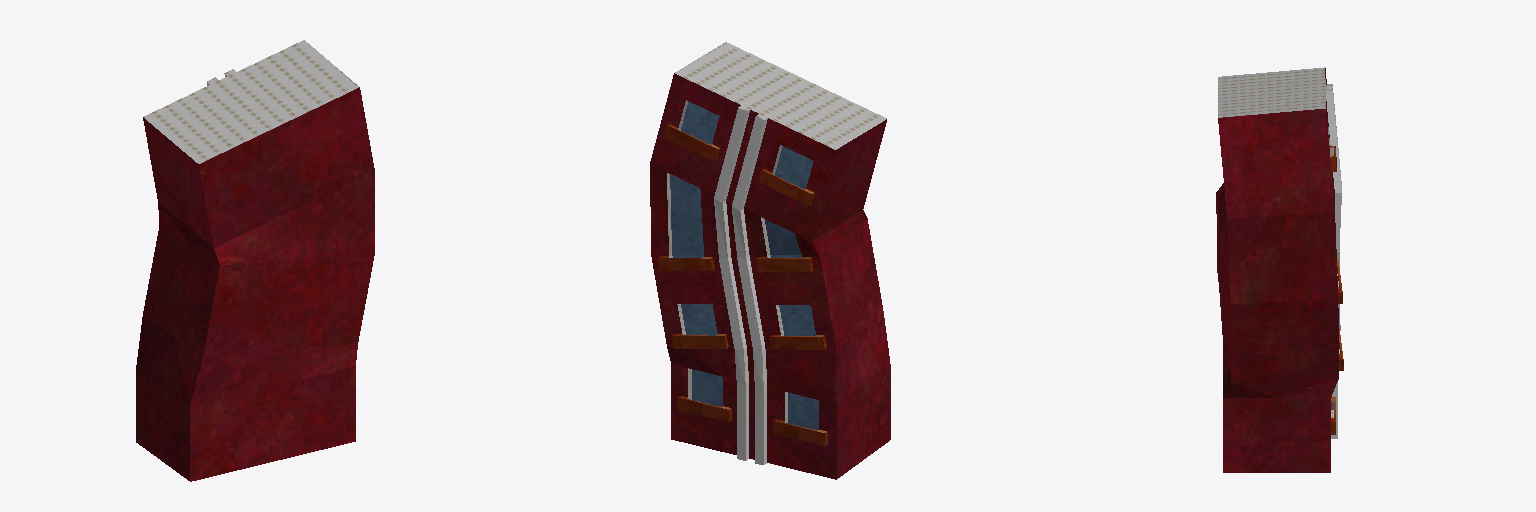
3 views of the same model, side by side, from view 1: azimuth 30°, elevation 25°; view 2: azimuth 150°, elevation 25°; view 3: azimuth 270°, elevation 25° (orthographic).
Parts seen in each view (by area): view 1: ciudad_pCylinder32polySurface32; view 2: ciudad_pCylinder32polySurface32; view 3: ciudad_pCylinder32polySurface32.
Part boxes in pixels (bbox=[...]): ciudad_pCylinder32polySurface32: bbox=[136, 40, 374, 481]; ciudad_pCylinder32polySurface32: bbox=[650, 42, 890, 479]; ciudad_pCylinder32polySurface32: bbox=[1216, 67, 1343, 472].
Bounding box in the file's own units: 22.87 × 42.27 × 13.42.
Materials: 6 (5 with a texture image).